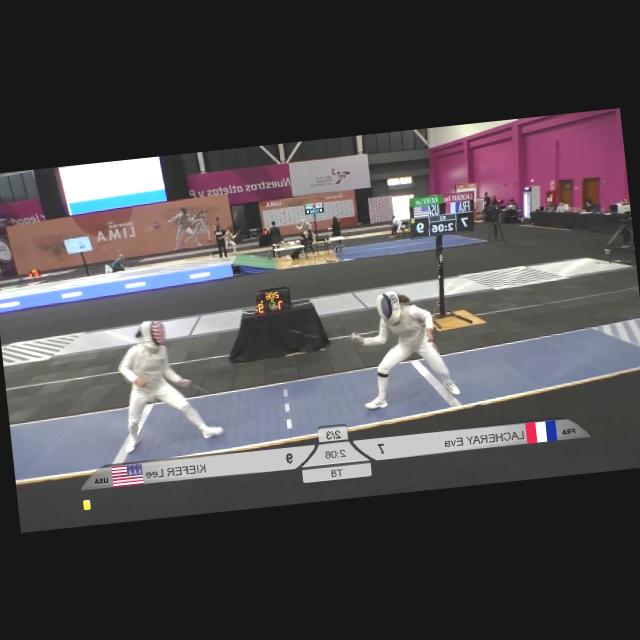blade: (184, 370, 260, 431)
